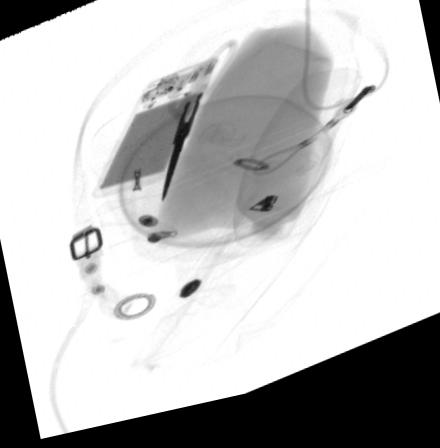Powerbank: (91, 65, 214, 203)
Scissors: (160, 48, 237, 210)
